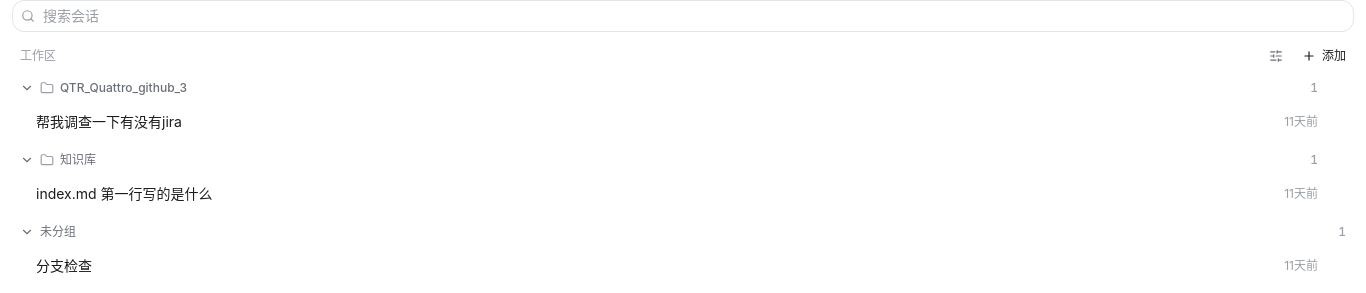
Test: ProjectSidebar › searches titles and workspace names and shows the workspace under each hit
Type "知识库" into the search field labelled "搜索会话" at (694, 16), box [43,6,1345,26]
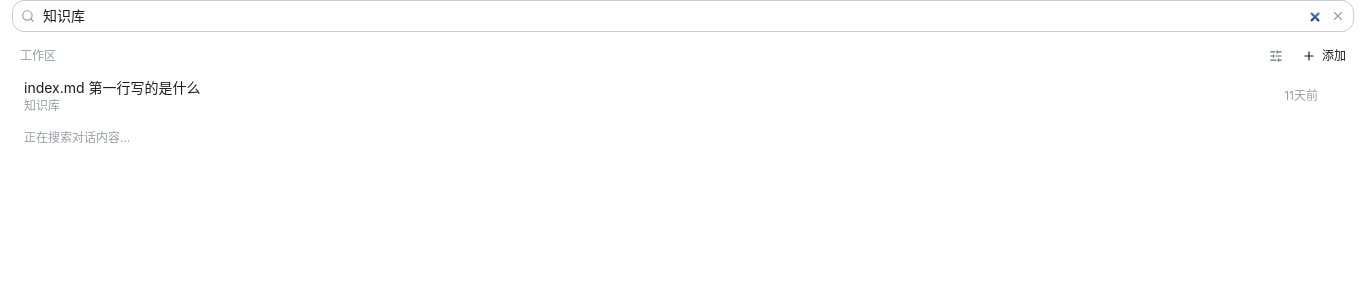
Expected: the text "index.md 第一行写的是什么" is shown, [24,78,200,98]
Now the button "分支检查" is gone
Press Escape
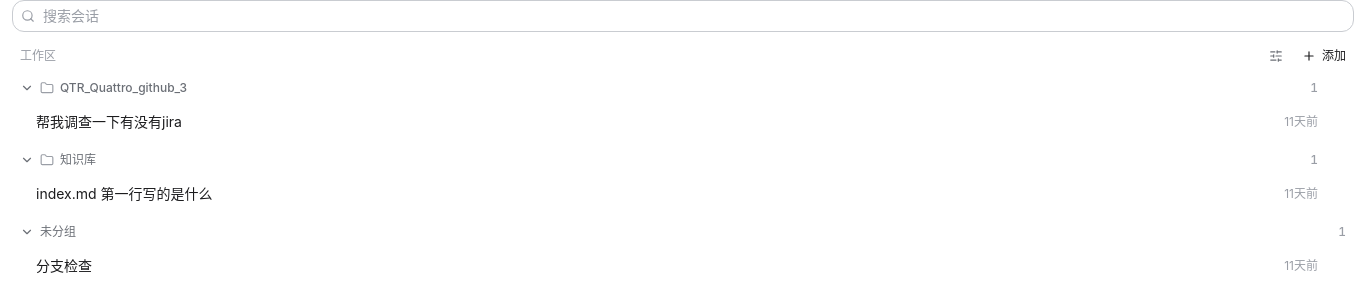
Now the text "分支检查" is shown, box [36,256,92,276]
